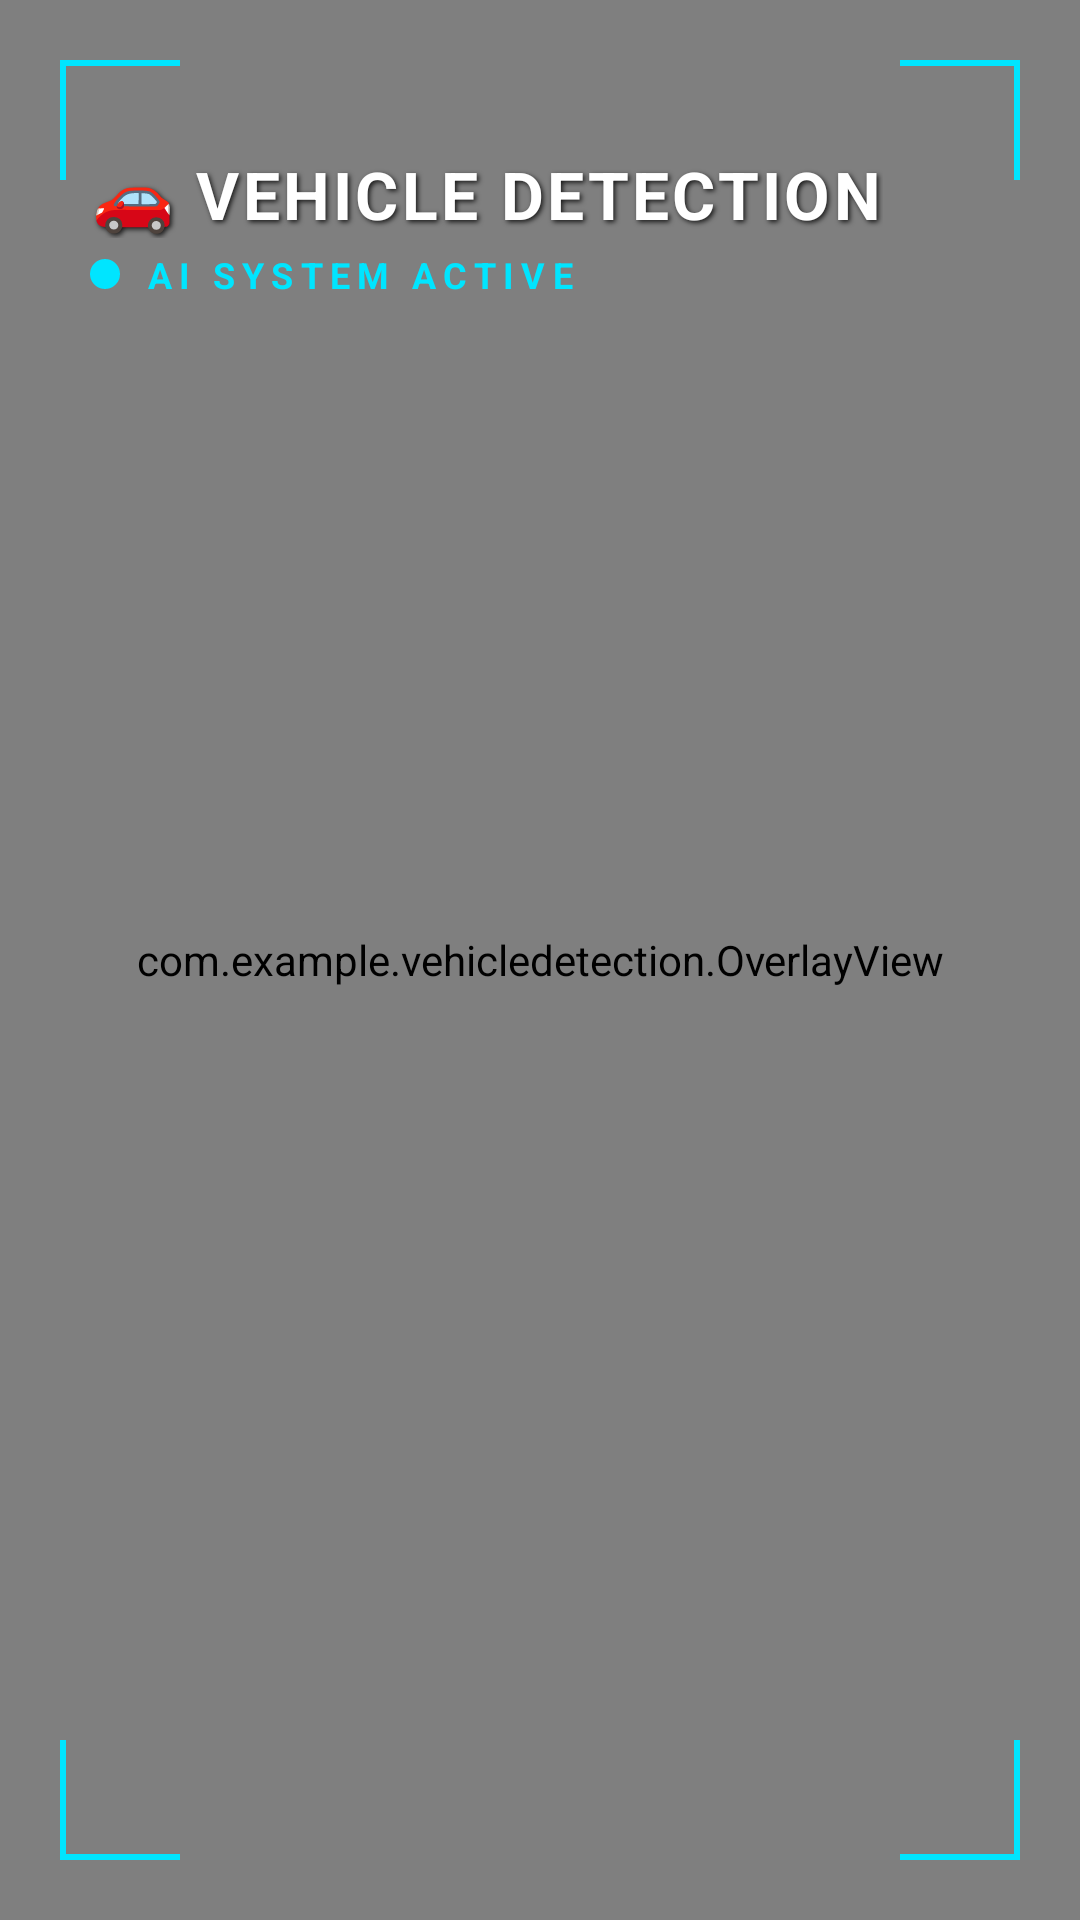

Point at icon controls on the screen. Image size 1080×1920, points as (x=x, y=y).
scanning dot: (x=105, y=274)
